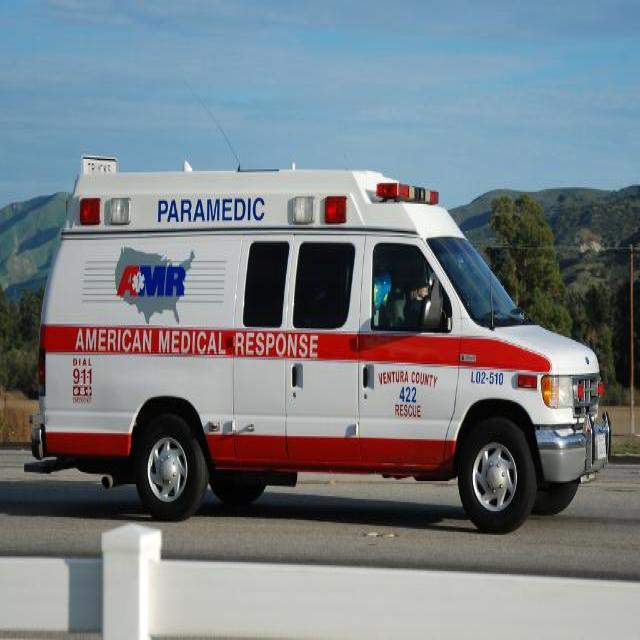emergency-vehicle: (24, 152, 616, 537)
